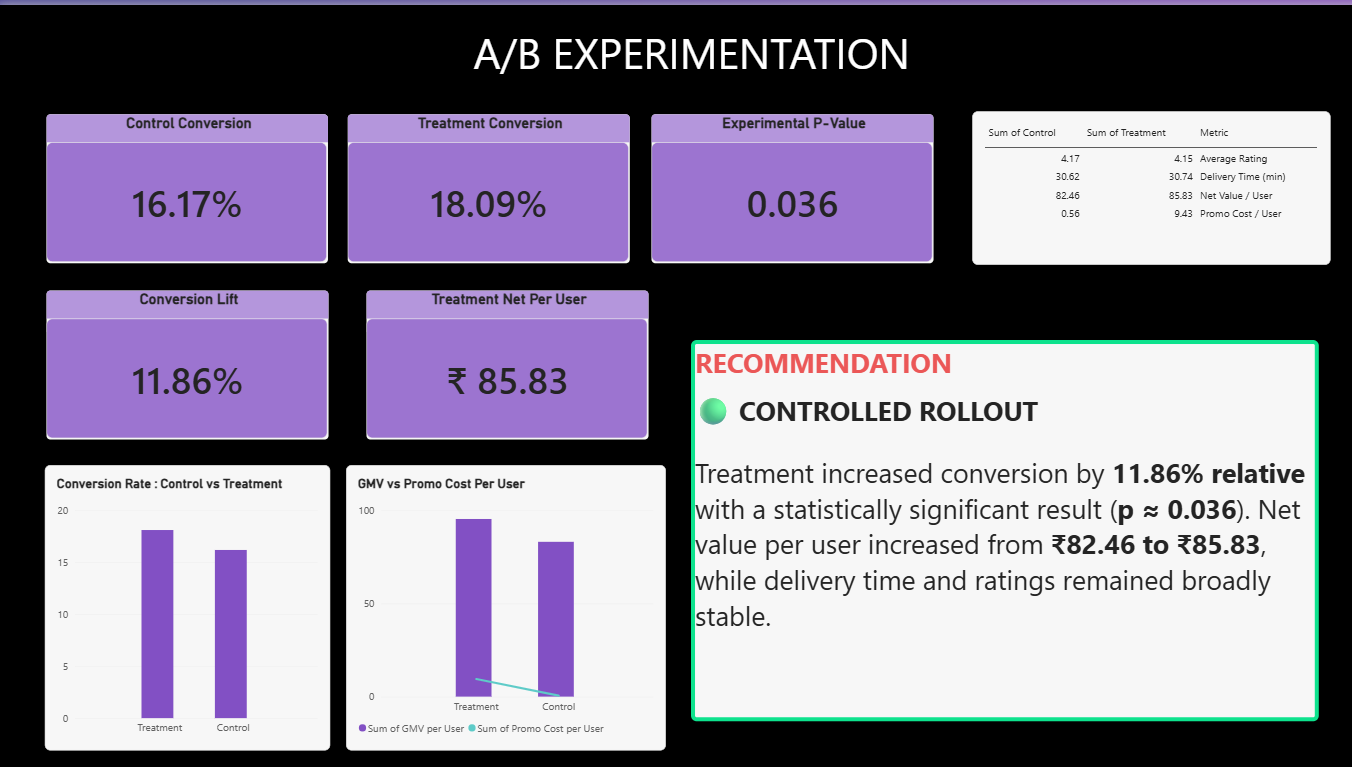

The page's visual inventory and layout, read from the dashboard file:
{"tool":"powerbi","page":{"name":"Page 4","canvas":[1920,1080],"ordinal":3},"visuals":[{"type":"textbox","box":[633.1,26.2,675,101.2],"z":0},{"type":"cardVisual","title":"Control Conversion","fields":{"Data":["experiment_results.Control Conversion"]},"box":[68,150,397.7,212.8],"z":1000},{"type":"cardVisual","title":"Treatment Conversion","fields":{"Data":["experiment_results.Treatment Conversion"]},"box":[488.4,150,398,213],"z":2000},{"type":"cardVisual","title":"Conversion Lift","fields":{"Data":["experiment_results.Conversion Lift"]},"box":[68,395.9,398,213],"z":3000},{"type":"cardVisual","title":"Experimental P-Value","fields":{"Data":["experiment_results.Experiment P-Value"]},"box":[912,150,398,213],"z":4000},{"type":"cardVisual","title":"Treatment Net Per User","fields":{"Data":["experiment_results.Treatment Net Value per User"]},"box":[514,396,398,213],"z":5000},{"type":"clusteredColumnChart","title":"Conversion Rate : Control vs Treatment","fields":{"Category":["Conversion Comparison.Variant"],"Y":["Sum(Conversion Comparison.Conversion Rate)"]},"box":[68,642,398,398],"z":6000},{"type":"lineClusteredColumnComboChart","title":"GMV vs Promo Cost Per User ","fields":{"Category":["Experiment Economics.Variant"],"Y":["Sum(Experiment Economics.GMV per User)"],"Y2":["Sum(Experiment Economics.Promo Cost per User)"]},"box":[488,642,446,398],"z":7000},{"type":"tableEx","fields":{"Values":["Sum(Experiment Guardrails.Control)","Sum(Experiment Guardrails.Treatment)","Experiment Guardrails.Metric"]},"box":[1362,148,500,214],"z":8000},{"type":"textbox","box":[970,468,876,532],"z":8001}]}

Visuals, with their boxes in screenshot pixels (x1, y1, x2, y2), scaled from the page's 1920x1080 canvas onto the 1352x767 screenshot:
textbox: <bbox>446, 19, 921, 90</bbox>
"Control Conversion" cardVisual: <bbox>48, 107, 328, 258</bbox>
"Treatment Conversion" cardVisual: <bbox>344, 107, 624, 258</bbox>
"Conversion Lift" cardVisual: <bbox>48, 281, 328, 432</bbox>
"Experimental P-Value" cardVisual: <bbox>642, 107, 922, 258</bbox>
"Treatment Net Per User" cardVisual: <bbox>362, 281, 642, 433</bbox>
"Conversion Rate : Control vs Treatment" clusteredColumnChart: <bbox>48, 456, 328, 739</bbox>
"GMV vs Promo Cost Per User " lineClusteredColumnComboChart: <bbox>344, 456, 658, 739</bbox>
tableEx - Sum(Experiment Guardrails.Control) x Sum(Experiment Guardrails.Treatment): <bbox>959, 105, 1311, 257</bbox>
textbox: <bbox>683, 332, 1300, 710</bbox>
